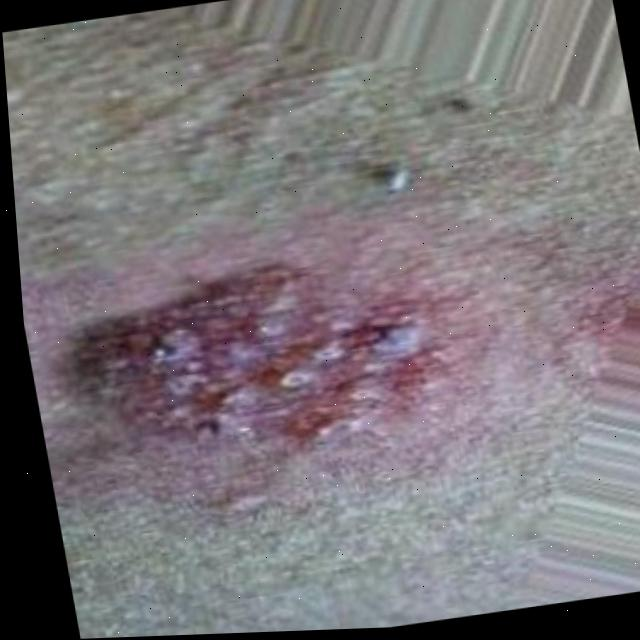Shingles: (82, 261, 435, 461)
